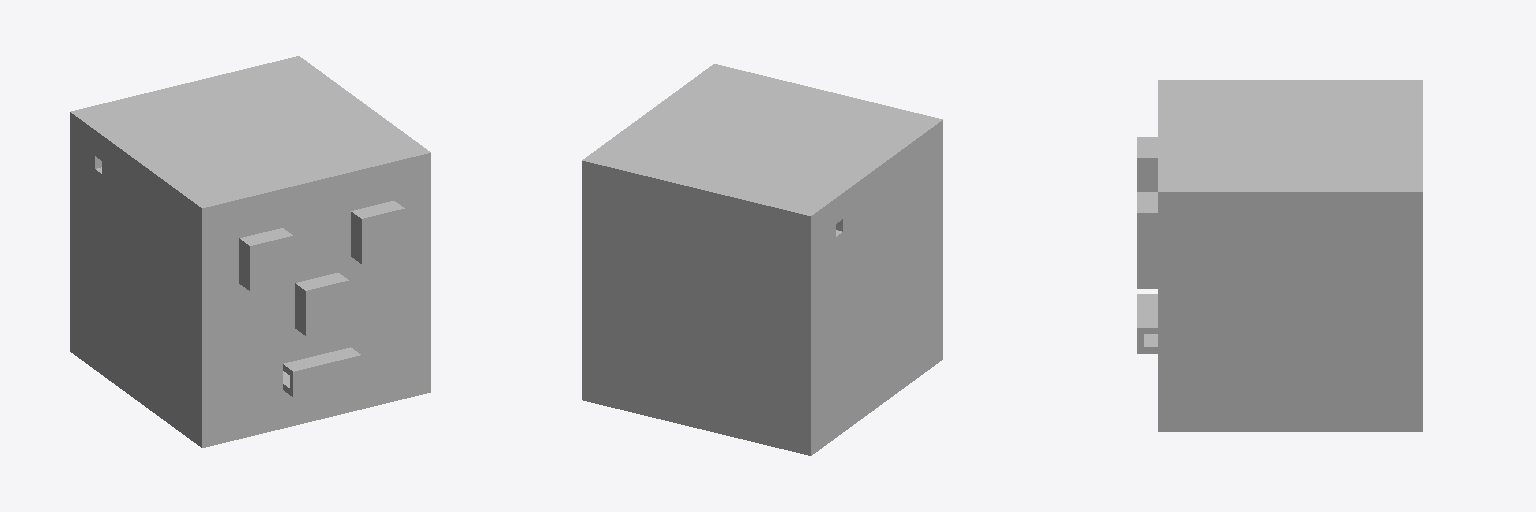
Rendered from head.obj.
The picture shows the model from 3 angles: view 1: azimuth 30°, elevation 25°; view 2: azimuth 150°, elevation 25°; view 3: azimuth 270°, elevation 25°; orthographic projection.
Visible parts, largest first — view 1: playerhead; view 2: playerhead; view 3: playerhead.
Part boxes in pixels (x1,y1,x2,y2): playerhead: (70,56,430,447); playerhead: (582,64,942,455); playerhead: (1137,80,1422,431).
Size of the model in its own units: 3.7 by 3.7 by 4.